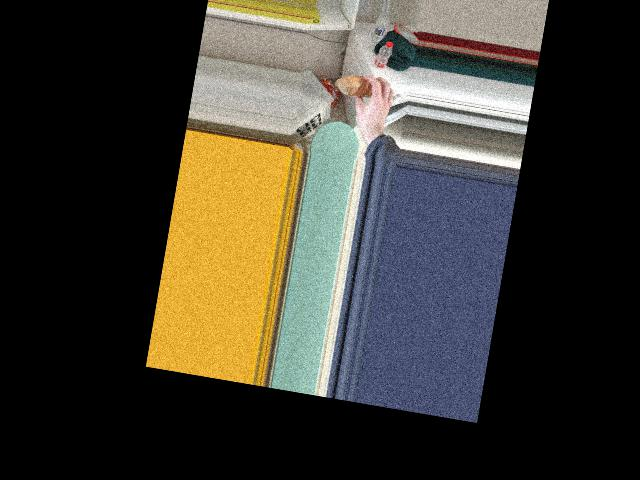sweet_potato: (342, 73, 376, 99)
